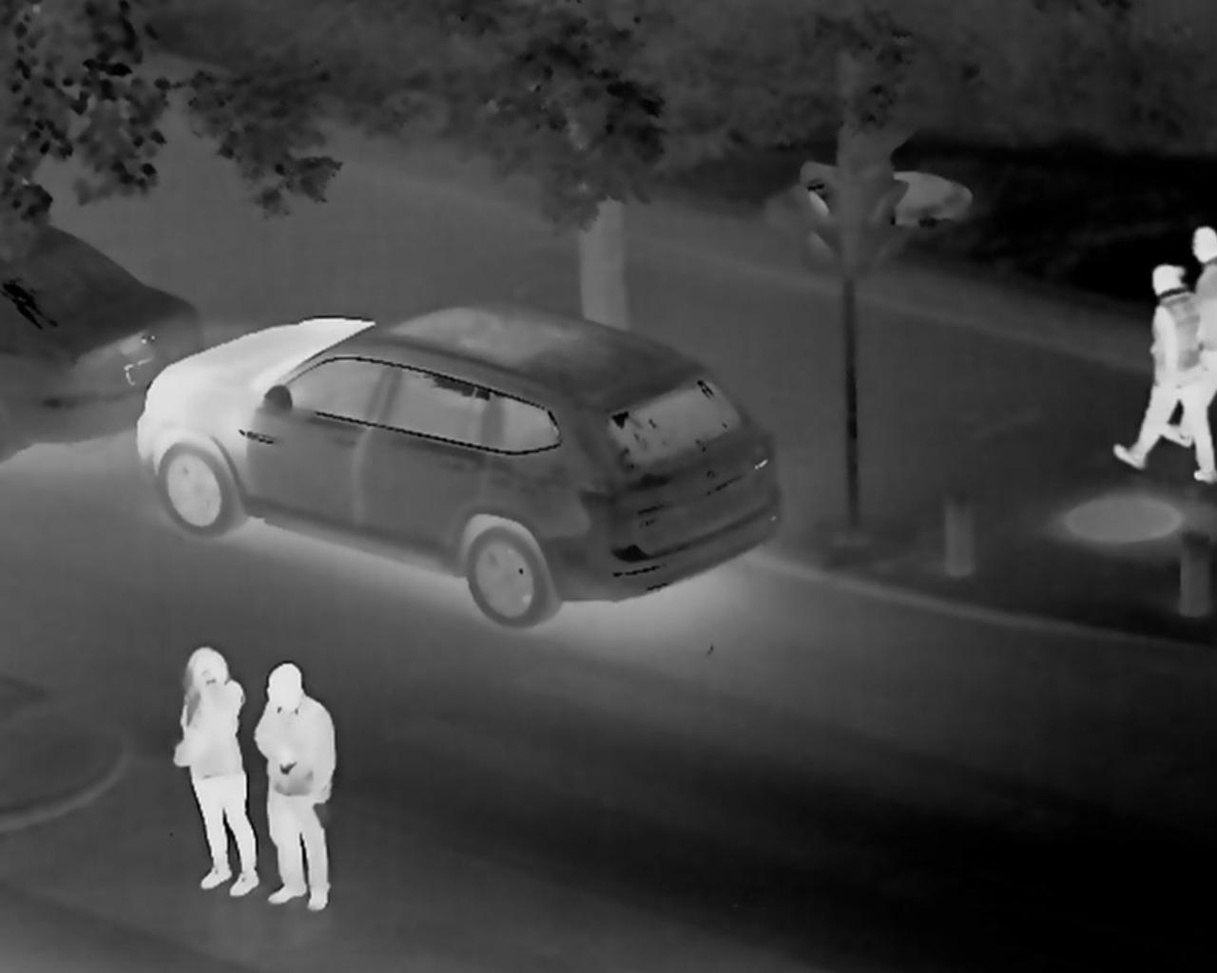person: (245, 661, 338, 914), (1114, 265, 1215, 485), (176, 641, 259, 901), (1159, 223, 1217, 453)
